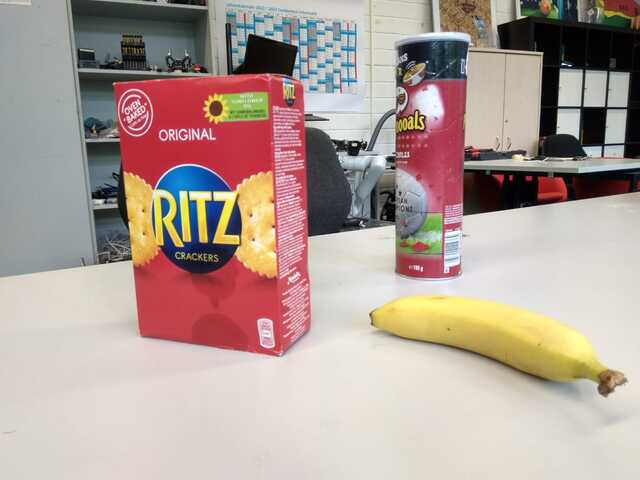001_chips_can: (393, 29, 473, 284)
003_cracker_box: (110, 72, 320, 361)
011_banana: (368, 290, 631, 400)
